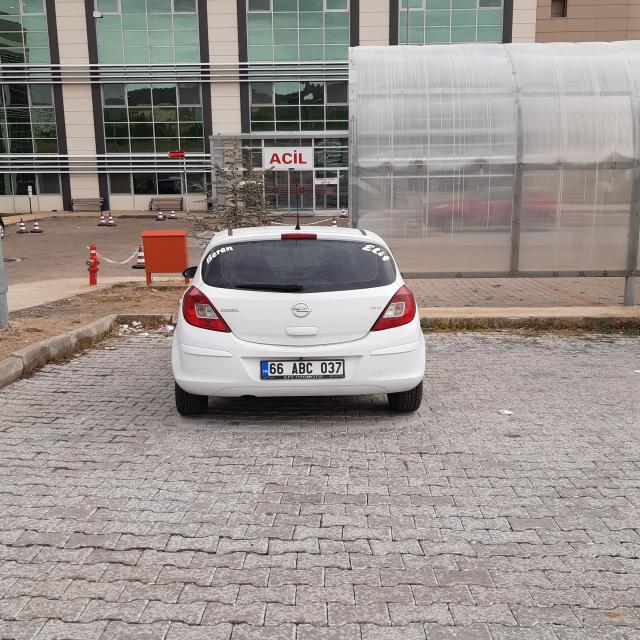license_plate: (260, 360, 344, 375)
